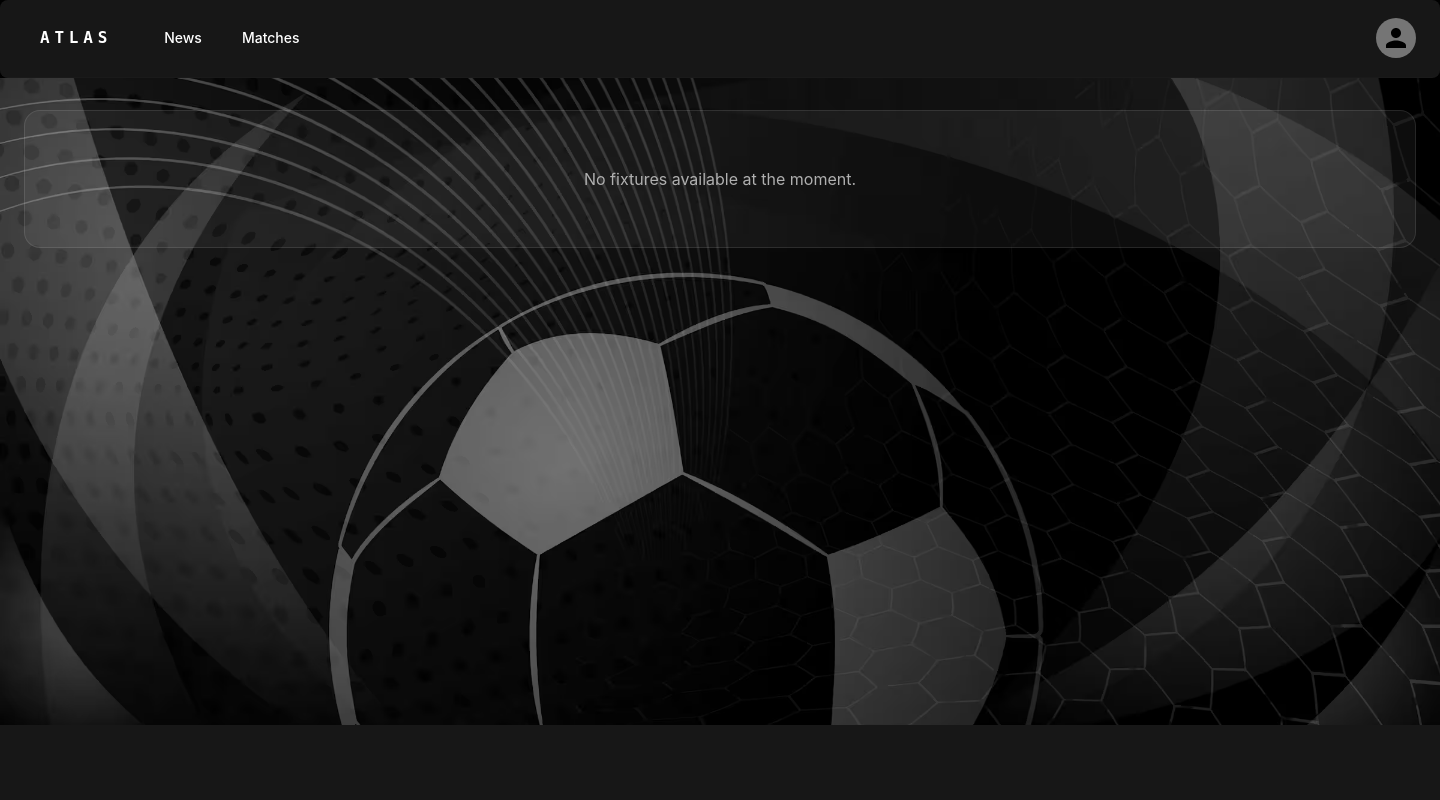
Test: As a desktop user, I should see fixtures on the landing page › I should be able to see a login button
Click the button named "Open Profile Settings" at [1396, 38], box [1376,18,1416,58]
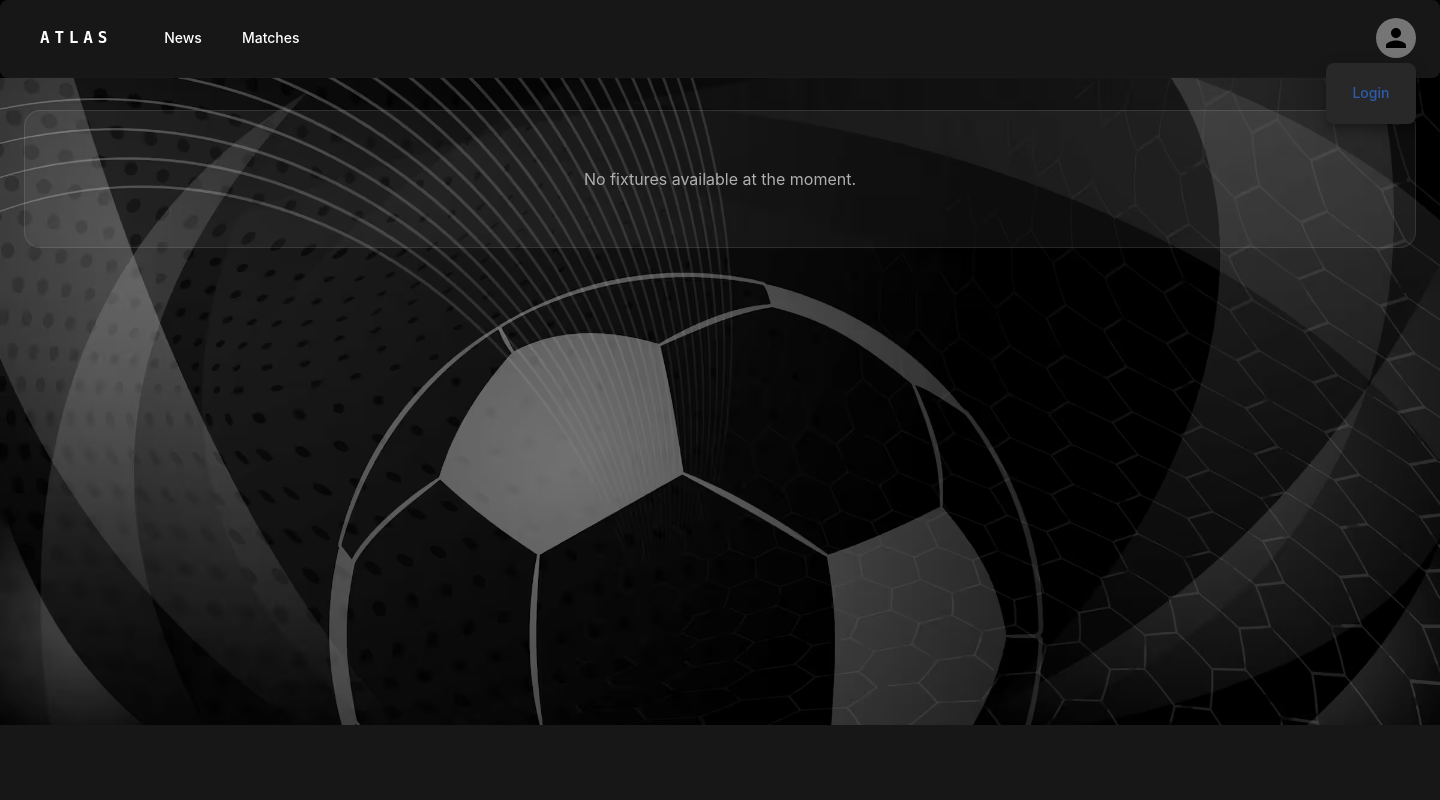
Now the button "Login" is shown, box [1332,71,1409,116]
